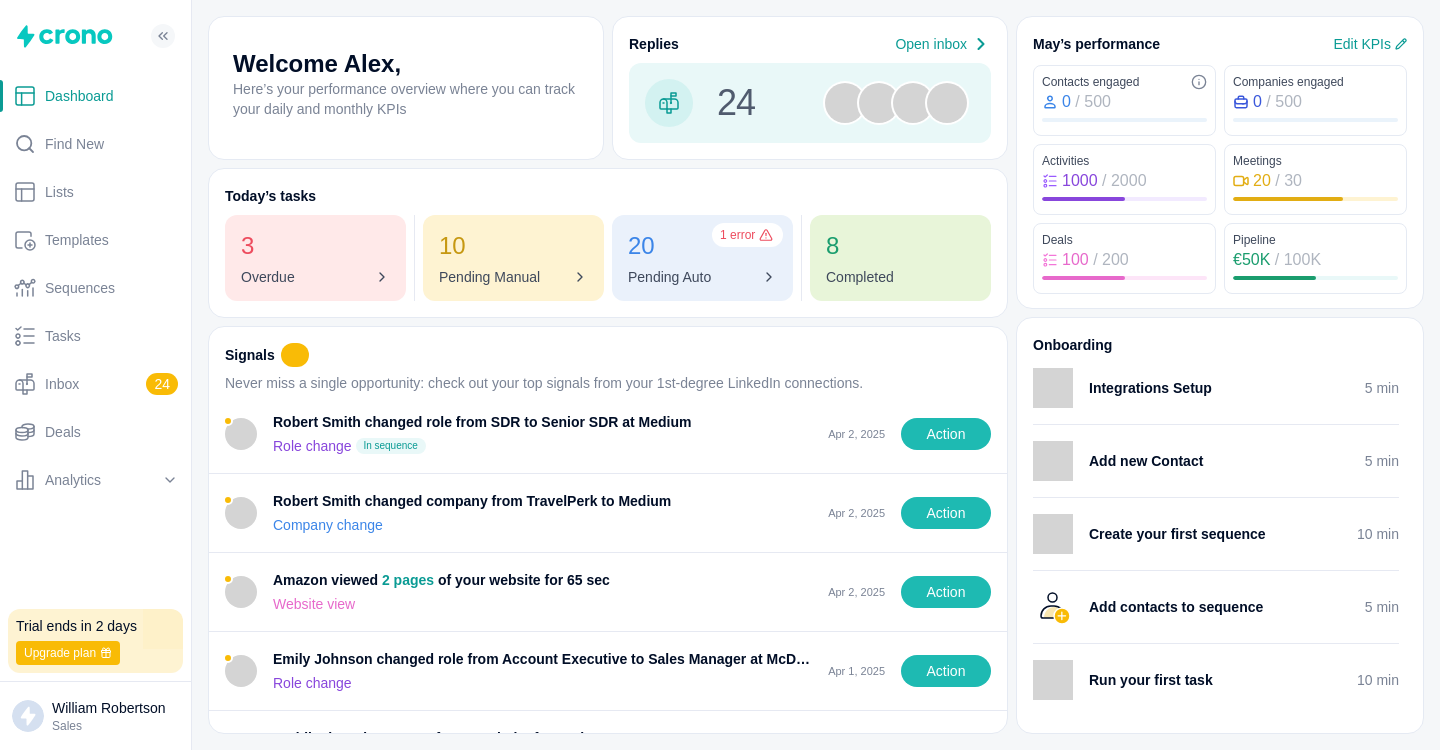
Dashboard › should complete a signal and update the visible count
The width and height of the screenshot is (1440, 750).
Check: the text "Robert Smith changed role from SDR to Senior SDR at Medium" is shown, box 273,414 -> 692,430
Step 1. Click the button "Action" in the row of "changed role from SDR to Senior SDR at" → {"x": 946, "y": 434}, box 901,418 -> 991,450
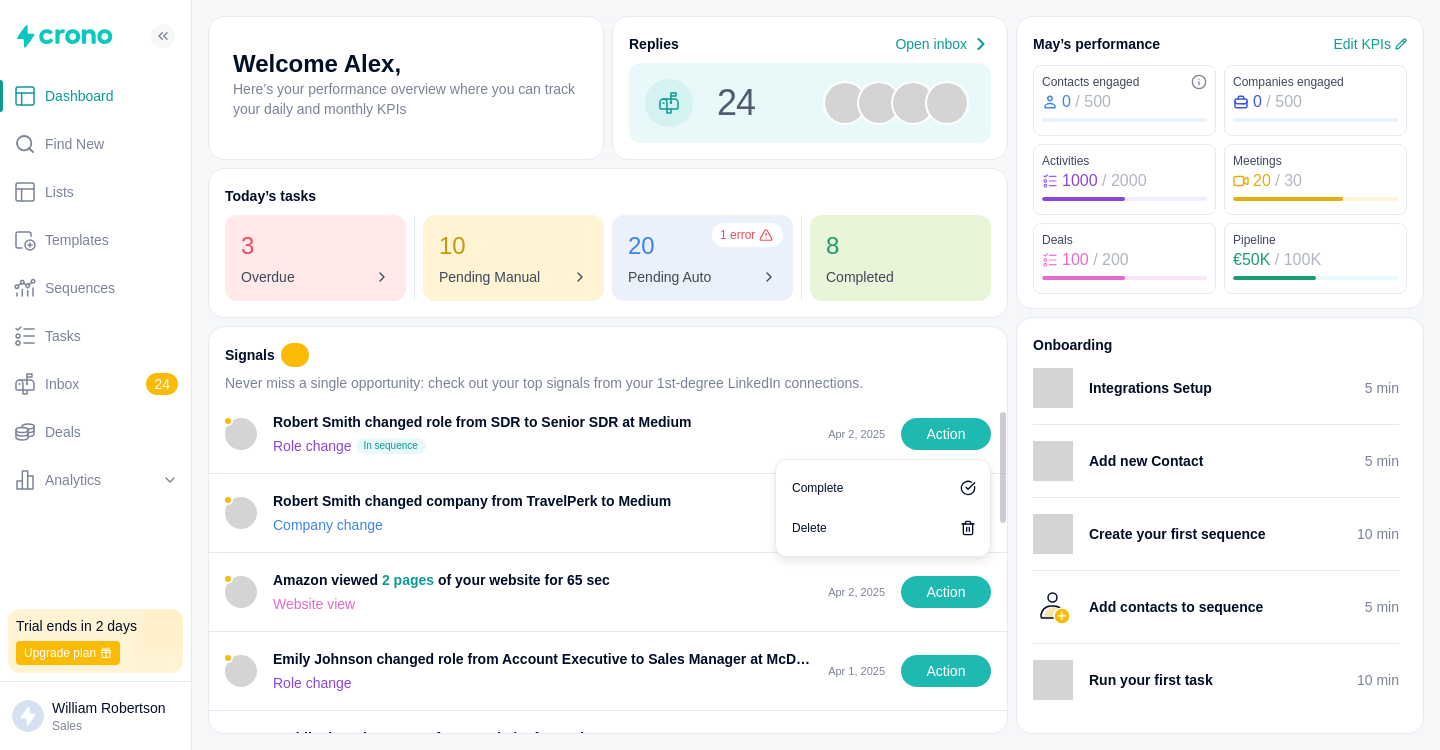
Step 2. Click the text "Complete" → {"x": 818, "y": 488}, box 792,480 -> 843,496
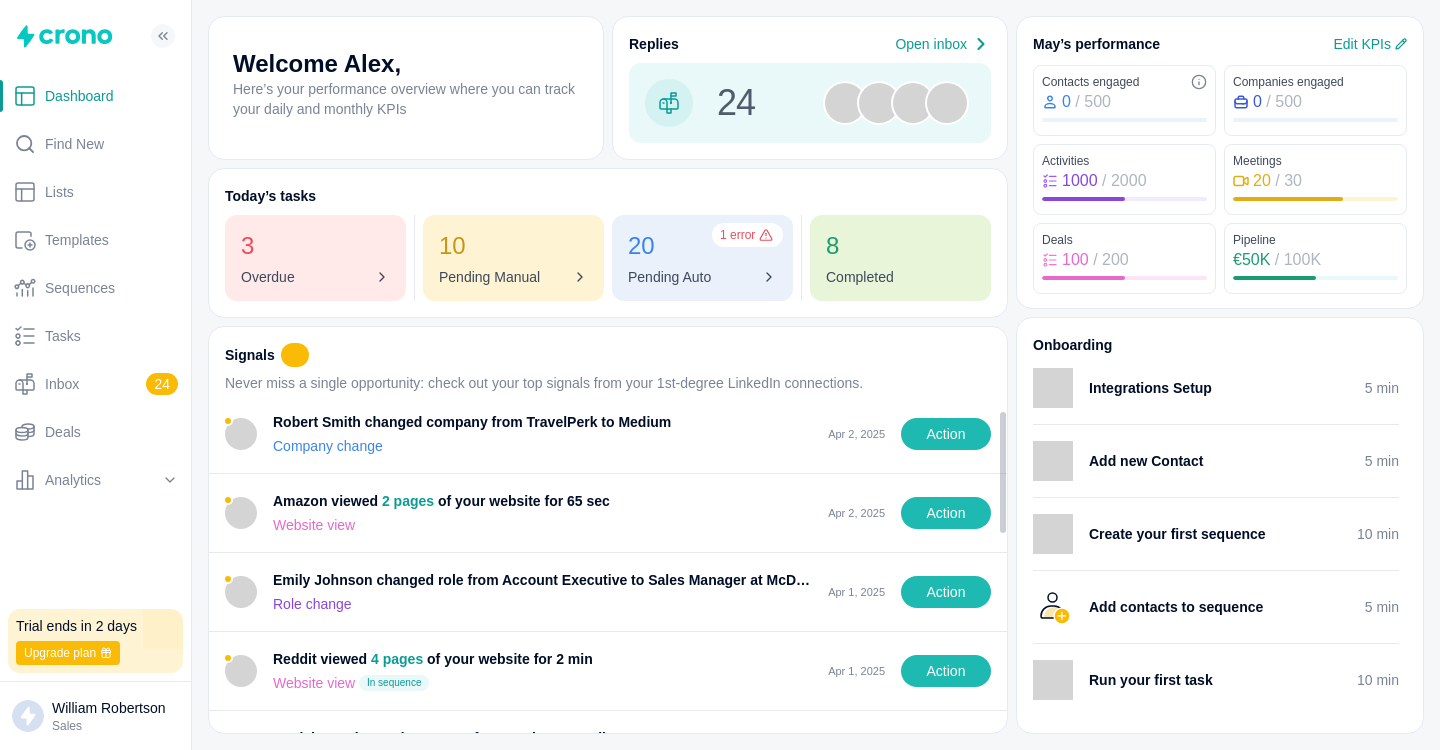
Check: the text "Robert Smith changed role from SDR to Senior SDR at Medium" is not shown
Step 3. Click the button "Action" in the row of "of your website for 65 sec" → {"x": 946, "y": 513}, box 901,497 -> 991,529
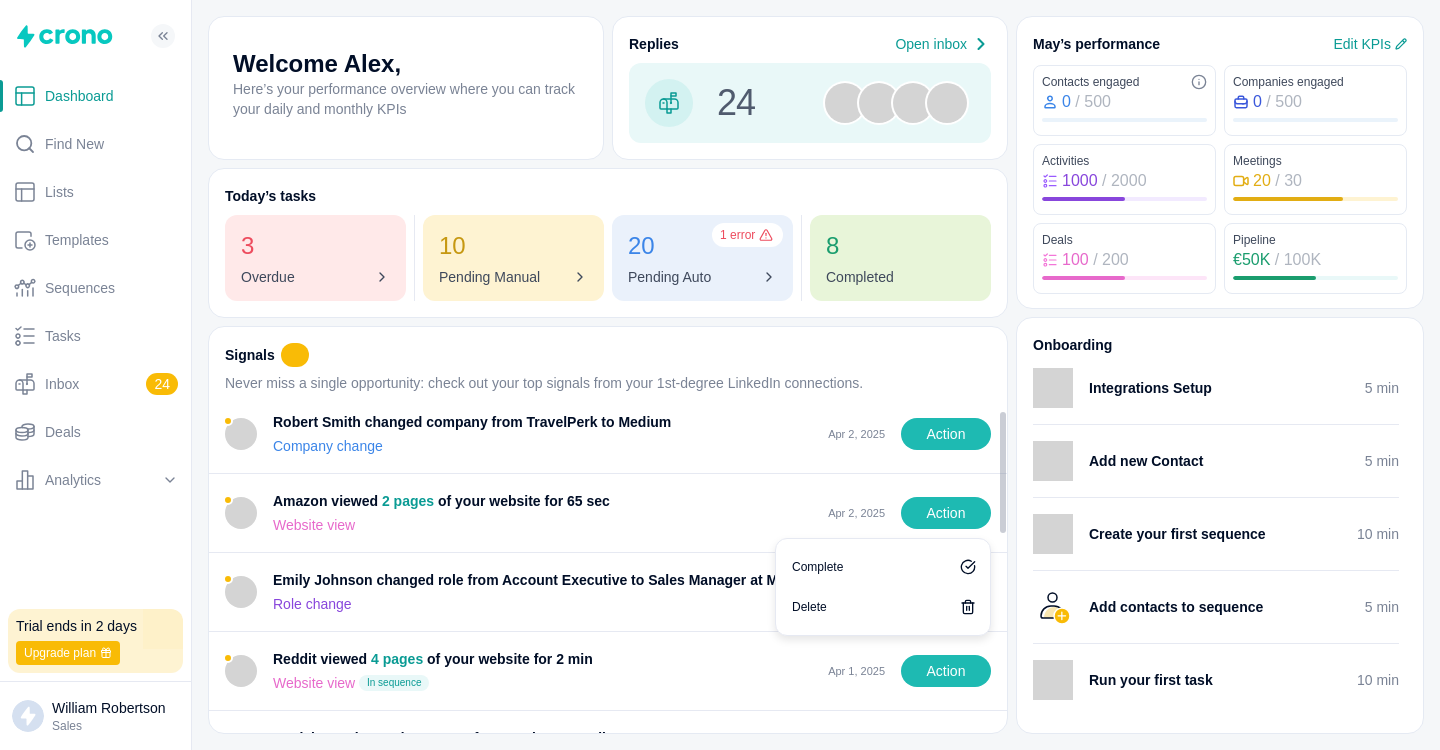
Check: the text "Delete" is shown, box 792,599 -> 827,615
